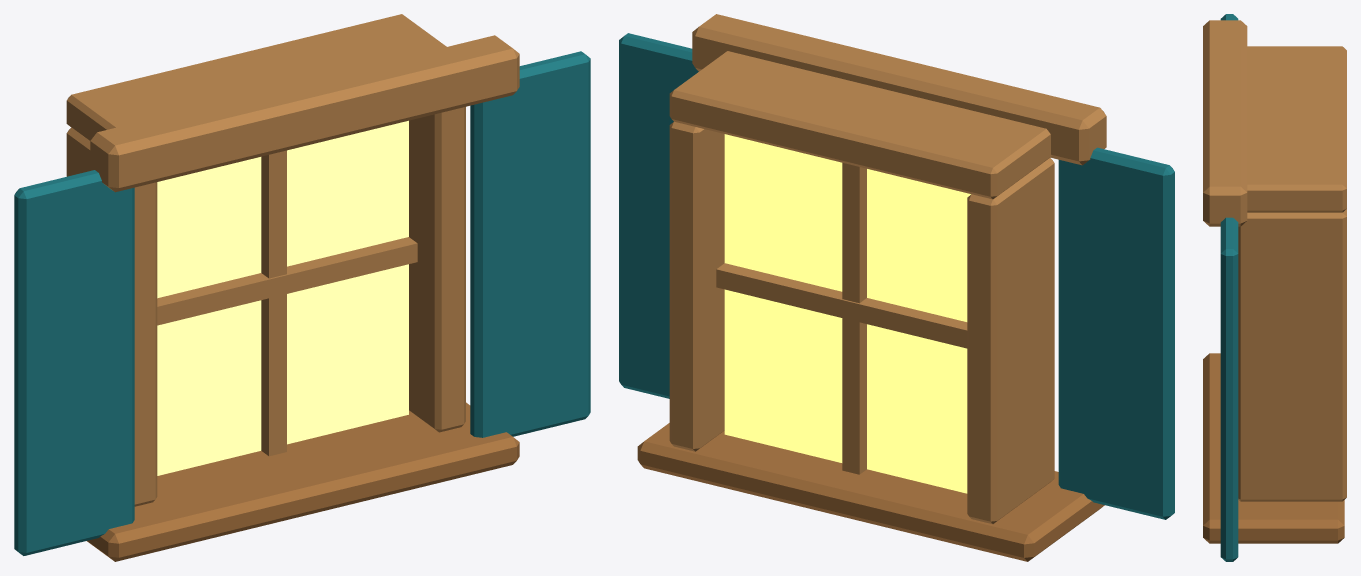
Rendered from mod_window_insert_square.glb.
3 views of the same model, side by side, from view 1: azimuth 30°, elevation 25°; view 2: azimuth 150°, elevation 25°; view 3: azimuth 270°, elevation 25° (orthographic). The views are drawn at different scales.
Parts seen in each view (by area): view 1: mod_window_insert_square; view 2: mod_window_insert_square; view 3: mod_window_insert_square.
Boxes of the visible parts, x1,y1,x2,y2 form: mod_window_insert_square: (14,14,590,561); mod_window_insert_square: (619,14,1174,561); mod_window_insert_square: (1203,14,1346,561).
Bounding box in the file's own units: 1.28 × 0.89 × 0.325.
